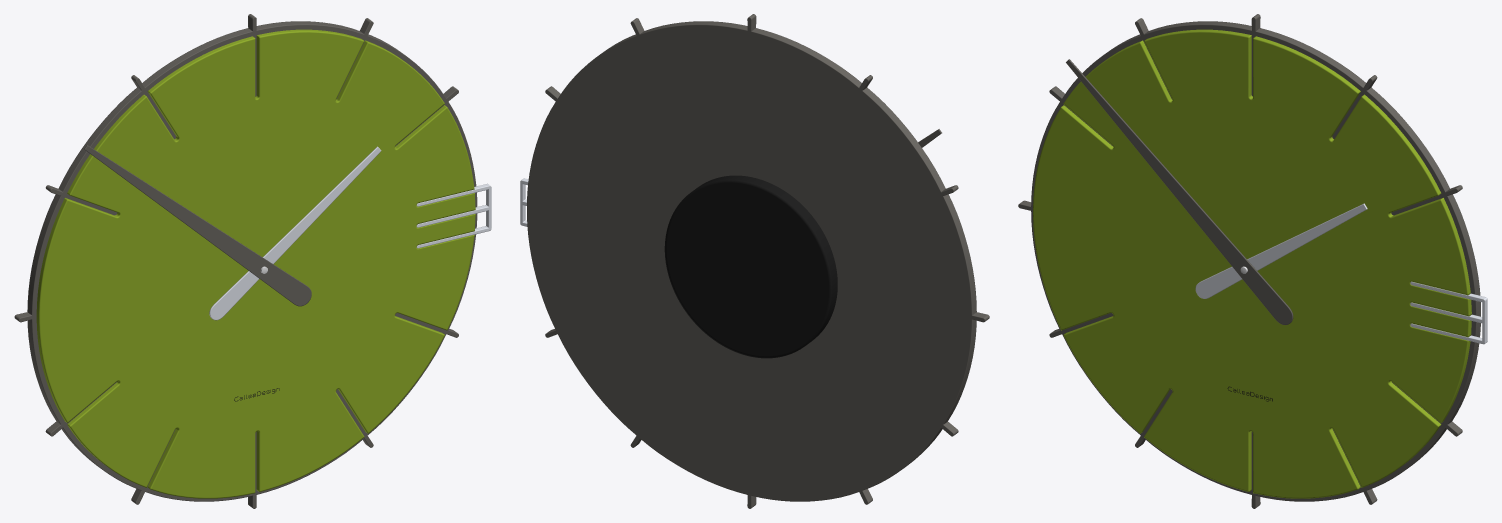
3 renders of one model, left to right at view 1: azimuth 30°, elevation 25°; view 2: azimuth 150°, elevation 25°; view 3: azimuth 330°, elevation 25°, orthographic.
Visible parts, largest first — view 1: lamp47749; view 2: lamp47749; view 3: lamp47749.
Boxes of the visible parts, x1,y1,x2,y2 form: lamp47749: (14,14,491,508); lamp47749: (520,14,989,508); lamp47749: (1018,14,1487,508).
Bounding box in the file's own units: 0.42 × 0.42 × 0.034.
1 material, 1 textured.
